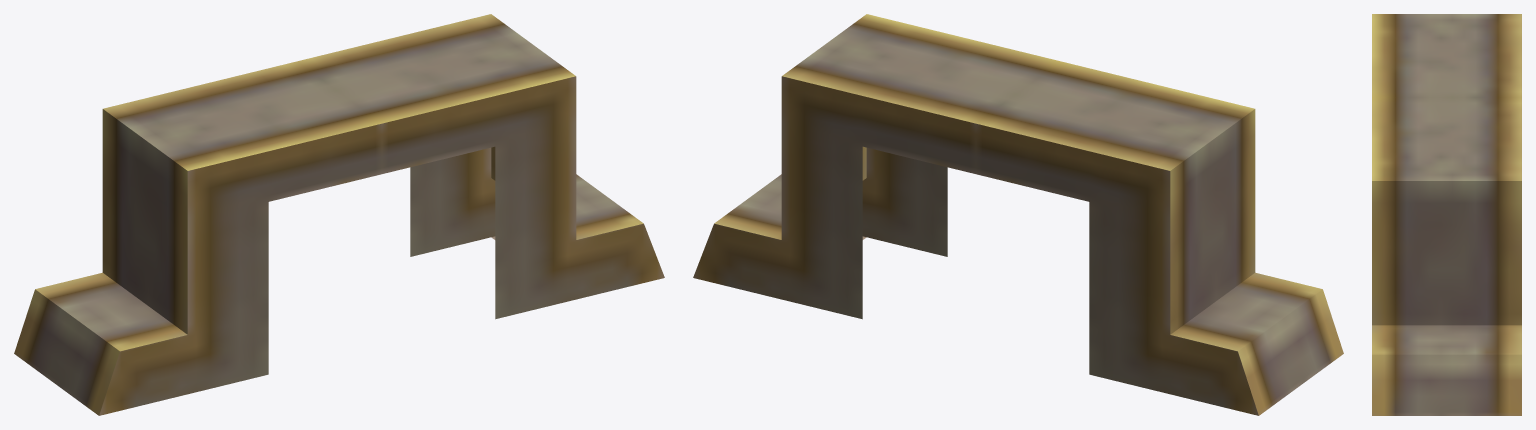
Rendered from MJ_zhanqin_07.FBX.
The picture shows the model from 3 angles, left to right: view 1: azimuth 30°, elevation 25°; view 2: azimuth 150°, elevation 25°; view 3: azimuth 270°, elevation 25°; orthographic projection. The views are drawn at different scales.
Visible parts, largest first — view 1: Box01; view 2: Box01; view 3: Box01.
Boxes of the visible parts, box(x1,y1,x2,y2) form: Box01: box(14, 14, 664, 415); Box01: box(693, 14, 1343, 415); Box01: box(1372, 14, 1521, 415).
Size of the model in its own units: 5.41 by 2.04 by 1.41.
